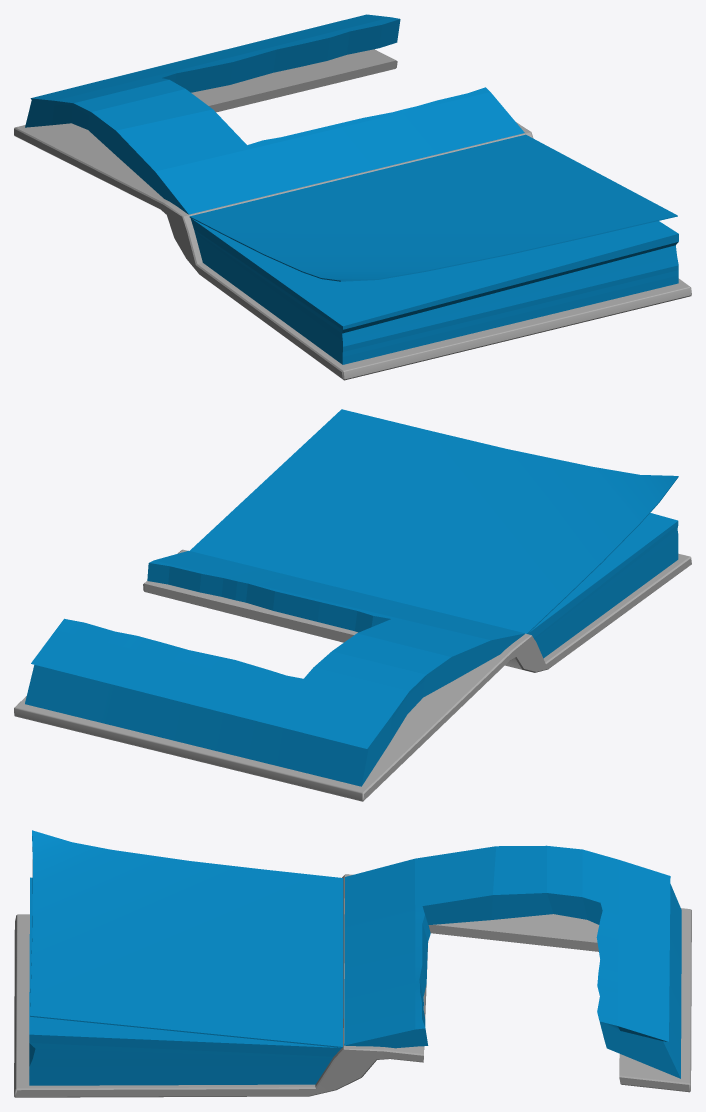
Rendered from book.fbx.
3 views of the same model, one above another, from view 1: azimuth 30°, elevation 25°; view 2: azimuth 150°, elevation 25°; view 3: azimuth 270°, elevation 25° (orthographic). The views are drawn at different scales.
Parts seen in each view (by area): view 1: pCube2; view 2: pCube2; view 3: pCube2.
Part boxes in pixels (x1,y1,x2,y2): pCube2: (14, 14, 691, 380); pCube2: (14, 409, 691, 801); pCube2: (14, 830, 691, 1097).
Bounding box in the file's own units: 2.95 × 4.8 × 0.7481.
